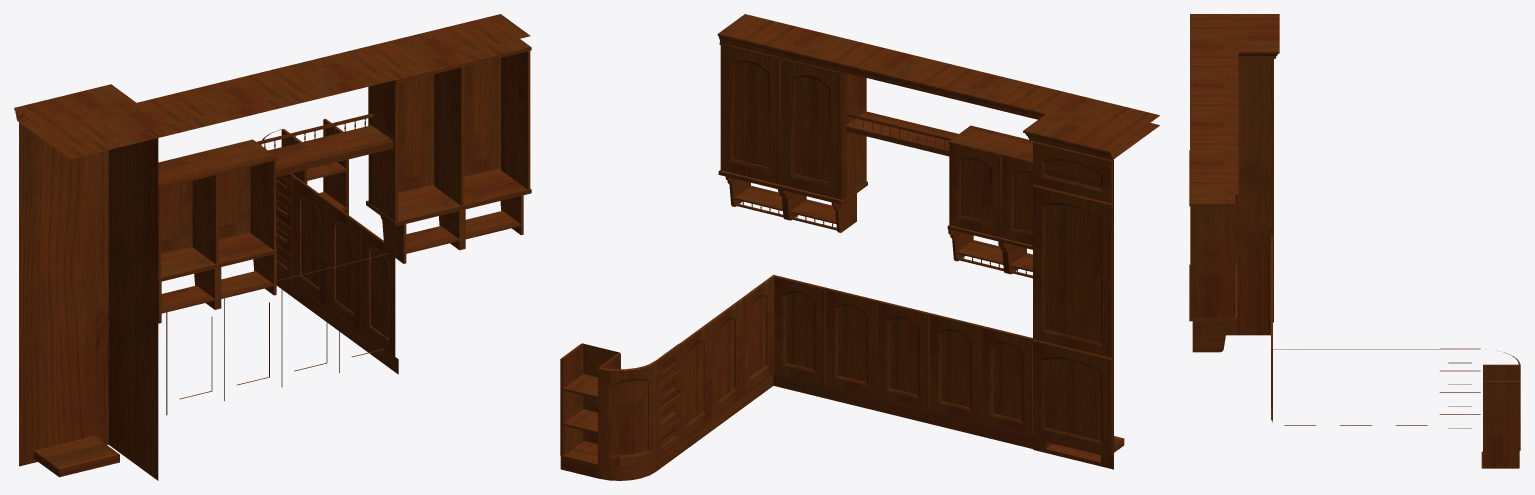
File: chugui.fbx
The picture shows the model from 3 angles, left to right: view 1: azimuth 30°, elevation 25°; view 2: azimuth 150°, elevation 25°; view 3: azimuth 270°, elevation 25°; orthographic projection. The views are drawn at different scales.
Visible parts, largest first — view 1: chugui; view 2: chugui; view 3: chugui.
Boxes of the visible parts, <box> form: chugui: <box>14,14,531,480</box>; chugui: <box>560,14,1159,480</box>; chugui: <box>1189,14,1520,468</box>.
Size of the model in its own units: 376 by 277 by 291.
